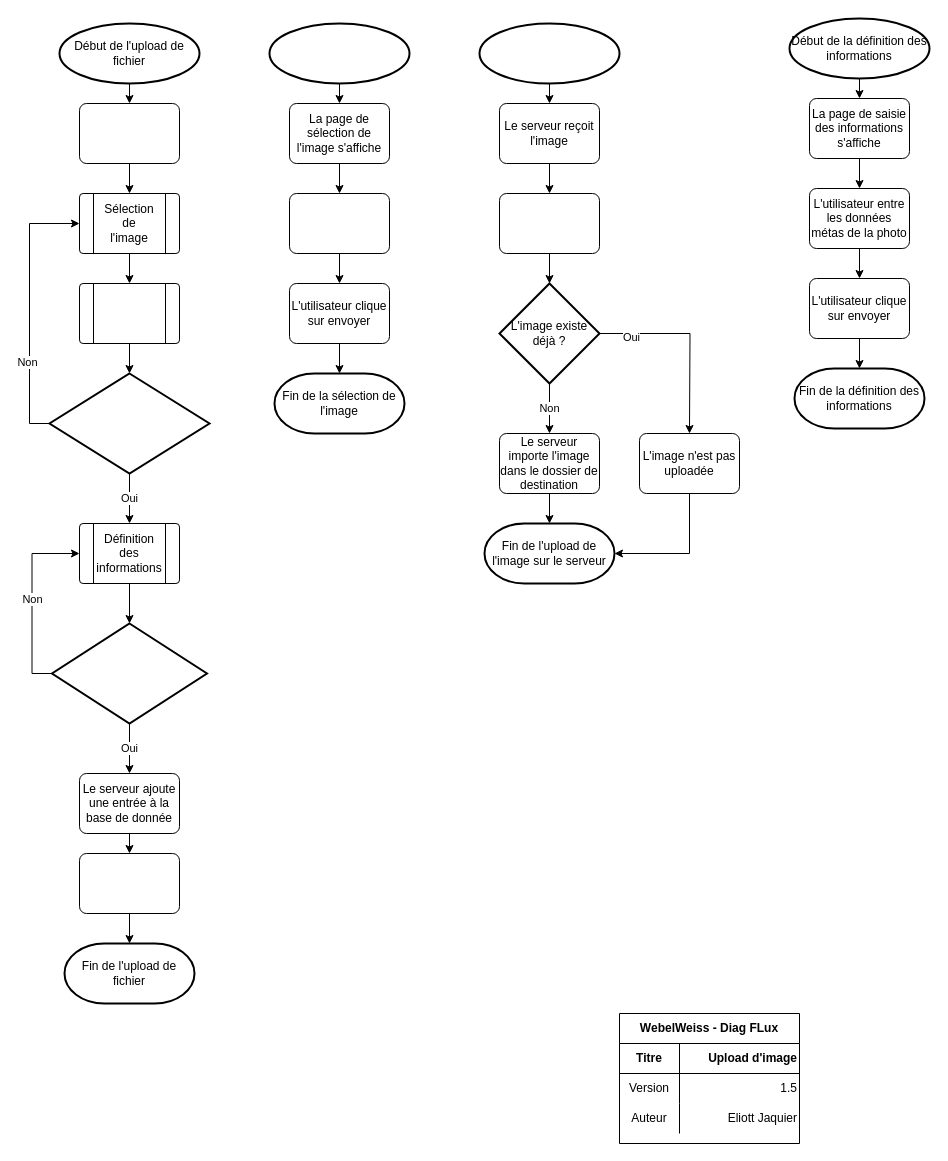
Image size: 948x1161. Some labels were removed from this diagram. The shapes that lost their labels are listed below. From the top down, each one's box as (x1, y1, x2, y2) in pixels, then its label:
(268, 22, 410, 84): Début de la sélection de l'image
(478, 22, 620, 84): Début de l'upload de l'image sur le serveur
(78, 102, 180, 164): L'utilisateur clique sur la page d'upload
(288, 192, 390, 254): L'utilisateur glisse ou sélectionne une image
(498, 192, 600, 254): Comparaison du hash de l'image avec la BDD
(78, 282, 180, 344): Upload de l'image sur le serveur
(48, 372, 210, 474): L'upload s'est bien passé ?
(50, 622, 208, 724): Les informations sont correctes ?
(78, 852, 180, 914): Le profile de l'utilisateur s'affiche avec la nouvelle image
